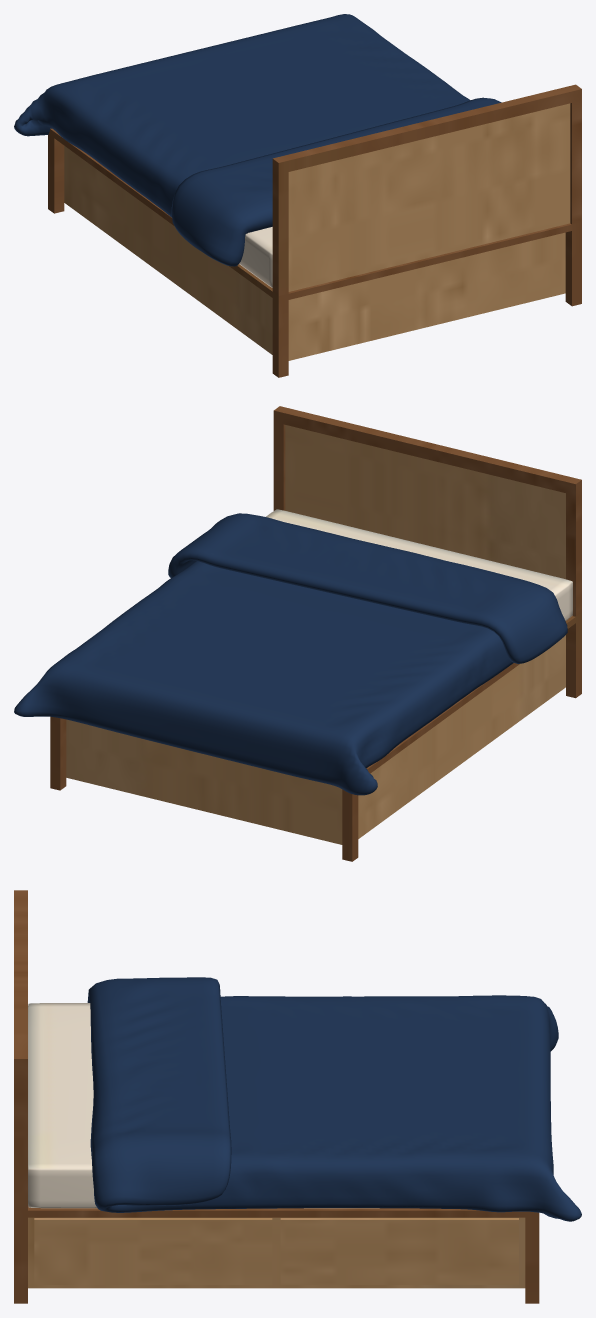
File: Bed12.glb
3 renders of one model, top to bottom at view 1: azimuth 30°, elevation 25°; view 2: azimuth 150°, elevation 25°; view 3: azimuth 270°, elevation 25°, orthographic. The views are drawn at different scales.
Parts seen in each view (by area): view 1: BedFrame12, Blanket12, Mattress12; view 2: Blanket12, BedFrame12, Mattress12; view 3: Blanket12, BedFrame12_Drawer01, BedFrame12_Drawer02, BedFrame12, Mattress12.
Boxes of the visible parts, box(x1,y1,x2,y2) form: BedFrame12: box(48, 84, 581, 377); Blanket12: box(14, 14, 501, 266); Mattress12: box(239, 227, 272, 287); Blanket12: box(14, 513, 567, 795); BedFrame12: box(50, 406, 581, 861); Mattress12: box(266, 509, 572, 620); Blanket12: box(87, 977, 581, 1221); BedFrame12_Drawer01: box(34, 1218, 272, 1284); BedFrame12_Drawer02: box(280, 1218, 518, 1284); BedFrame12: box(14, 890, 539, 1303); Mattress12: box(28, 1003, 379, 1208).
Size of the model in its own units: 4.2 by 2.37 by 4.98.
Materials: 3 (3 with a texture image).
